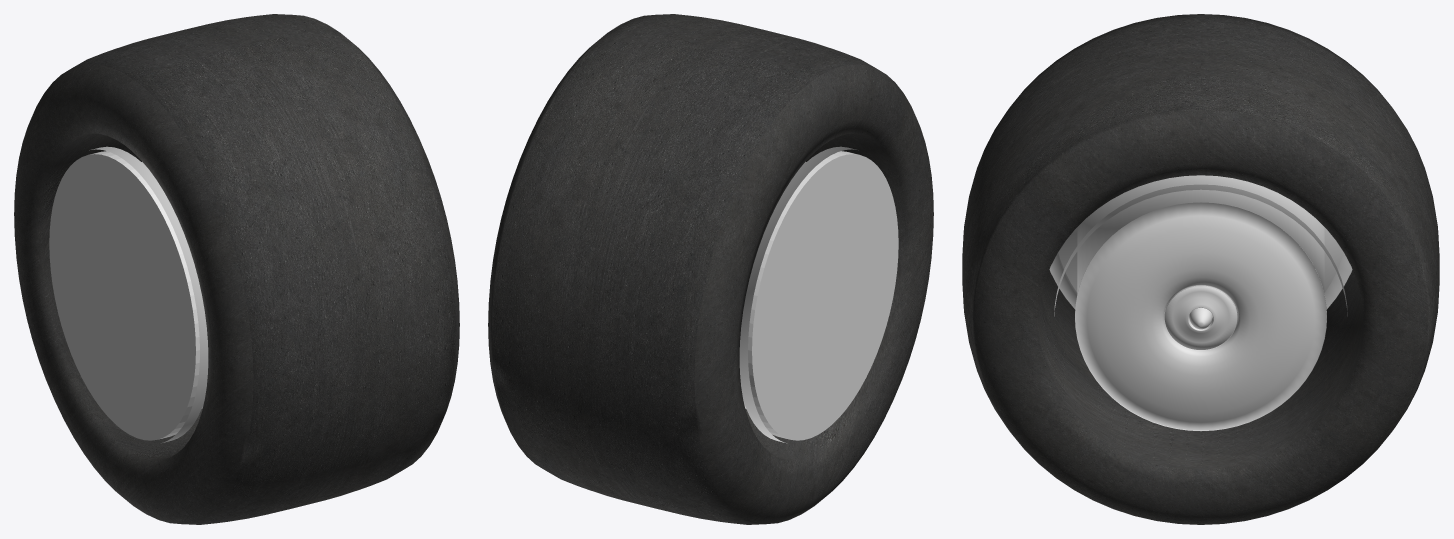
Rendered from f1_2026_2008_wheel_front_spin.glb.
3 renders of one model, left to right at view 1: azimuth 30°, elevation 25°; view 2: azimuth 150°, elevation 25°; view 3: azimuth 270°, elevation 25°, orthographic. The views are drawn at different scales.
Parts seen in each view (by area): view 1: GEO_WHEEL_TIRE, GEO_WHEEL_HUB; view 2: GEO_WHEEL_TIRE, GEO_WHEEL_HUB; view 3: GEO_WHEEL_TIRE, GEO_WHEEL_HUB.
Boxes of the visible parts, box(x1,y1,x2,y2) form: GEO_WHEEL_TIRE: box(14, 14, 459, 524); GEO_WHEEL_HUB: box(49, 146, 208, 443); GEO_WHEEL_TIRE: box(488, 14, 933, 524); GEO_WHEEL_HUB: box(739, 146, 898, 443); GEO_WHEEL_TIRE: box(962, 14, 1439, 524); GEO_WHEEL_HUB: box(1049, 175, 1352, 431).
Size of the model in its own units: 0.365 by 0.66 by 0.66.
1 material, 1 textured.
